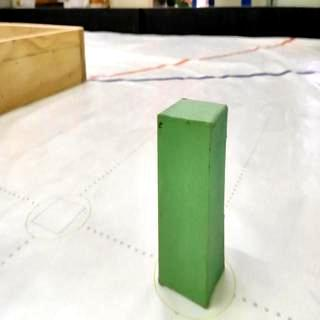greenbox: (156, 96, 231, 310)
